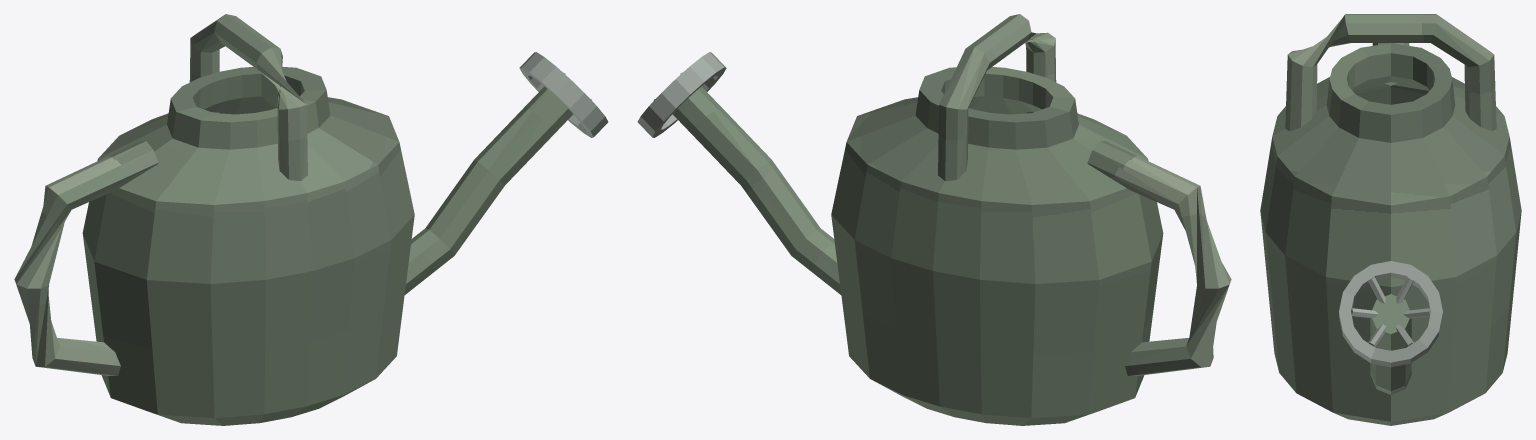
Rendered from watering-can.glb.
The picture shows the model from 3 angles, left to right: view 1: azimuth 30°, elevation 25°; view 2: azimuth 150°, elevation 25°; view 3: azimuth 270°, elevation 25°; orthographic projection.
Parts seen in each view (by area): view 1: watering-can/open-reservoir, watering-can/rear-loop-handle, watering-can/rising-spout, watering-can/top-carry-handle, watering-can/rose-rim; view 2: watering-can/open-reservoir, watering-can/rear-loop-handle, watering-can/rising-spout, watering-can/top-carry-handle, watering-can/rose-rim; view 3: watering-can/open-reservoir, watering-can/top-carry-handle, watering-can/rose-rim, watering-can/rising-spout.
Boxes of the visible parts, x1,y1,x2,y2 form: watering-can/open-reservoir: (82,67,414,425); watering-can/rear-loop-handle: (14,140,158,375); watering-can/rising-spout: (404,86,573,294); watering-can/top-carry-handle: (189,14,307,181); watering-can/rose-rim: (519,52,608,137); watering-can/open-reservoir: (831,67,1163,425); watering-can/rear-loop-handle: (1087,140,1231,375); watering-can/rising-spout: (672,86,841,294); watering-can/top-carry-handle: (938,14,1056,181); watering-can/rose-rim: (637,52,726,137); watering-can/open-reservoir: (1260,43,1521,425); watering-can/top-carry-handle: (1285,14,1496,131); watering-can/rose-rim: (1339,261,1442,367); watering-can/rising-spout: (1370,294,1411,394).
Size of the model in its own units: 0.5632 by 0.3286 by 0.2158.
Materials: 2 (2 with a texture image).
